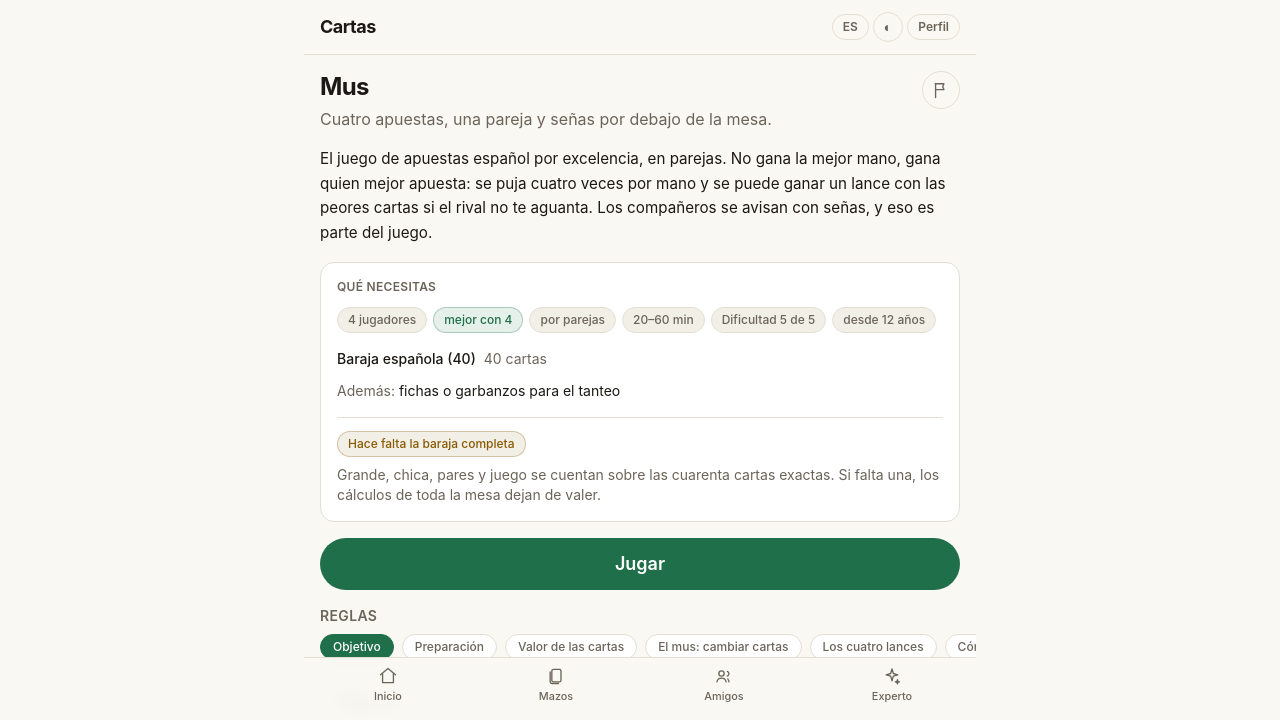
Test: reportar un juego › sin cuenta lo dice, y dice por qué, en vez de fallar al enviar
The image size is (1280, 720).
Click the button named "Reportar este juego": (941, 90) 922,71 -> 960,109
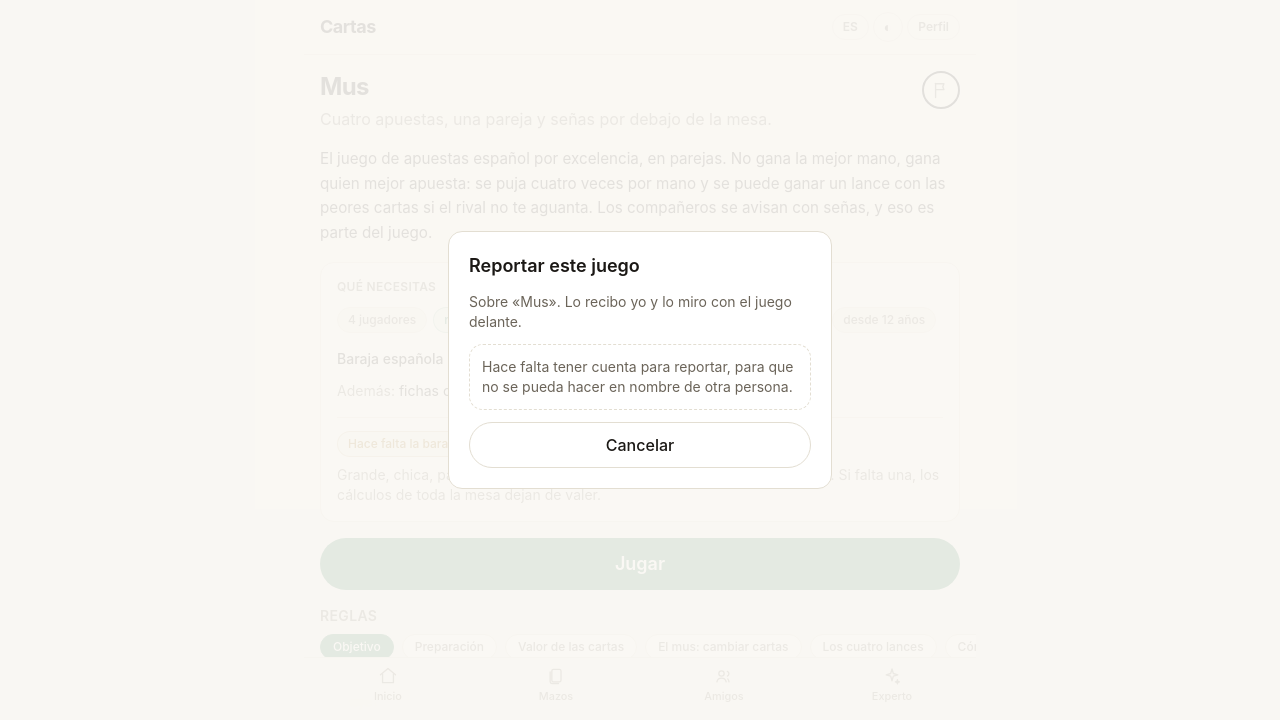
Check: the text "en nombre de otra persona" is shown, box 482,358 -> 794,395
